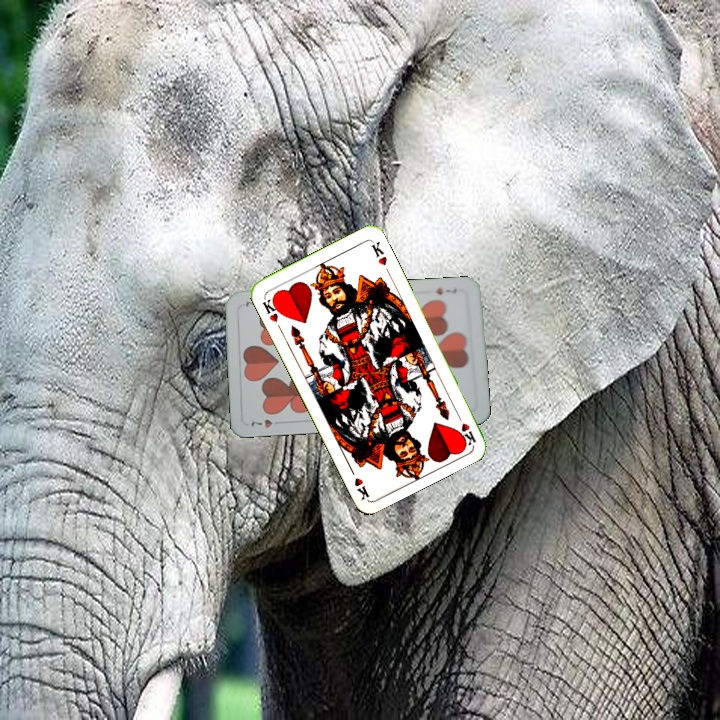H7: (246, 415, 286, 430), (432, 283, 459, 297)
HK: (452, 408, 478, 447), (258, 293, 284, 325)
